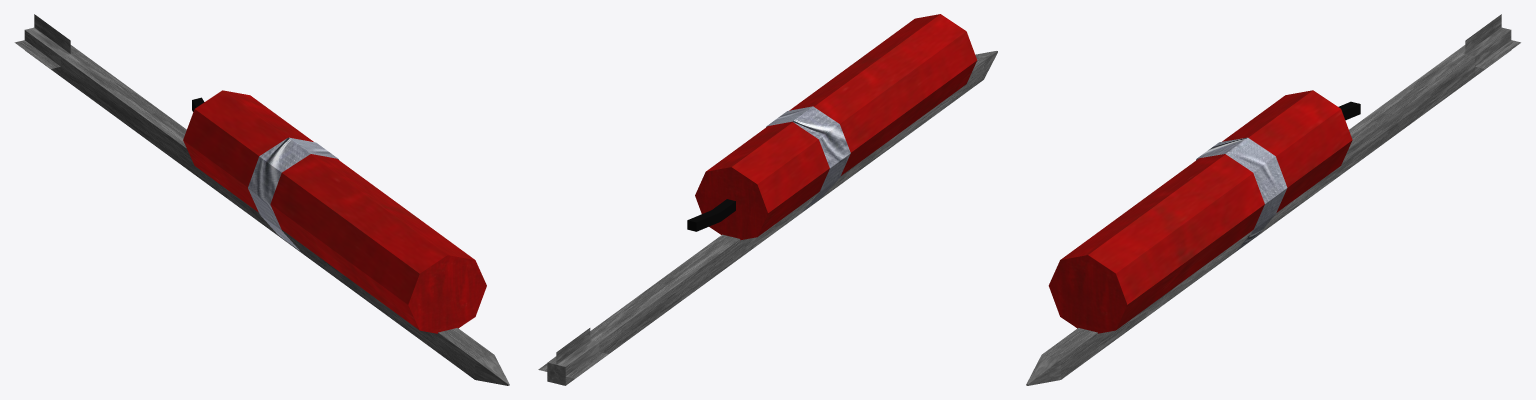
File: dynamite.fbx
The picture shows the model from 3 angles, left to right: view 1: azimuth 30°, elevation 25°; view 2: azimuth 150°, elevation 25°; view 3: azimuth 330°, elevation 25°; orthographic projection. The views are drawn at different scales.
Parts seen in each view (by area): view 1: Dynamite, Bolt, Tape; view 2: Dynamite, Bolt, Tape, Wick; view 3: Dynamite, Bolt, Tape.
Boxes of the visible parts, x1,y1,x2,y2 form: Dynamite: (183, 90, 486, 333); Bolt: (14, 14, 509, 385); Tape: (248, 137, 338, 251); Dynamite: (695, 14, 977, 240); Bolt: (538, 51, 997, 385); Tape: (766, 106, 850, 211); Wick: (687, 199, 735, 231); Dynamite: (1048, 90, 1352, 333); Bolt: (1026, 14, 1520, 385); Tape: (1196, 137, 1287, 251).
Bounding box in the file's own units: 20.57 × 23.6 × 211.
